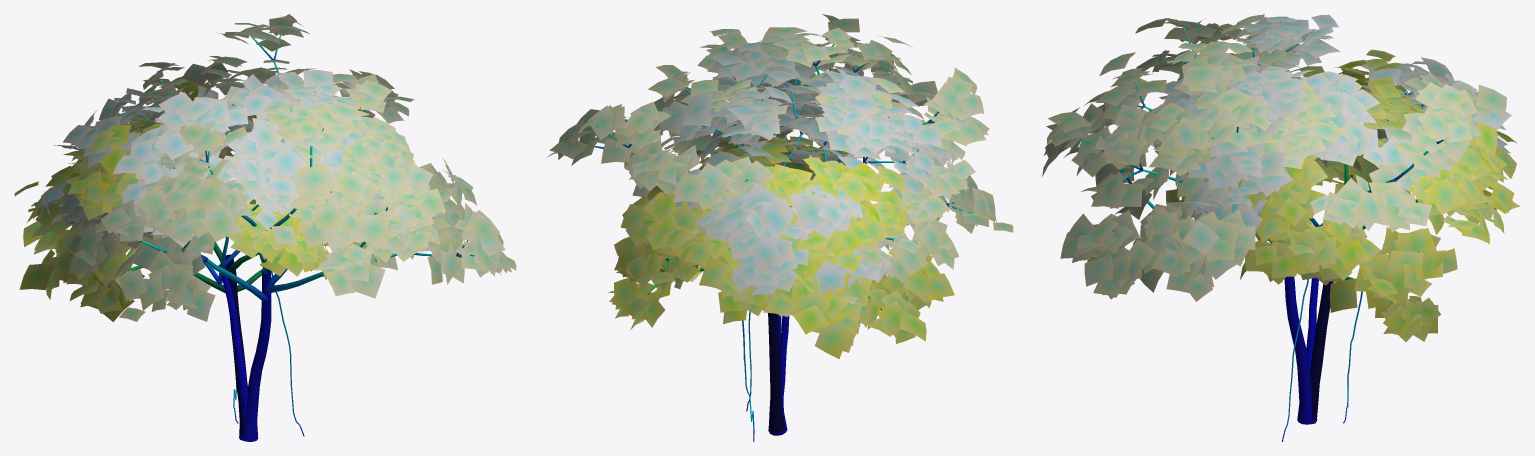
File: canopy.glb
3 views of the same model, side by side, from view 1: azimuth 30°, elevation 25°; view 2: azimuth 150°, elevation 25°; view 3: azimuth 270°, elevation 25° (orthographic). The views are drawn at different scales.
Visible parts, largest first — view 1: canopy2_lod0, canopy0_lod0, canopy1_lod0; view 2: canopy2_lod0, canopy0_lod0, canopy1_lod0; view 3: canopy2_lod0, canopy1_lod0, canopy0_lod0.
Boxes of the visible parts, left/top/right/bottom form: canopy2_lod0: left=68, top=14, right=516, bottom=441; canopy0_lod0: left=33, top=70, right=384, bottom=435; canopy1_lod0: left=14, top=76, right=367, bottom=440; canopy2_lod0: left=547, top=14, right=1013, bottom=433; canopy0_lod0: left=658, top=43, right=952, bottom=441; canopy1_lod0: left=608, top=133, right=954, bottom=435; canopy2_lod0: left=1042, top=15, right=1506, bottom=424; canopy1_lod0: left=1166, top=49, right=1520, bottom=424; canopy0_lod0: left=1157, top=14, right=1511, bottom=441.
Size of what is drawn, in the model's own units: 22.3 by 20.73 by 23.89.
